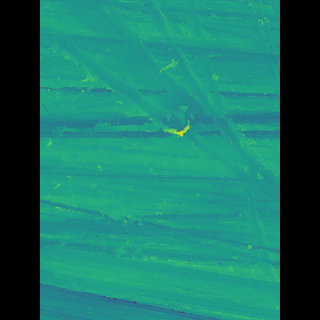Loch: (69, 0, 249, 219)
